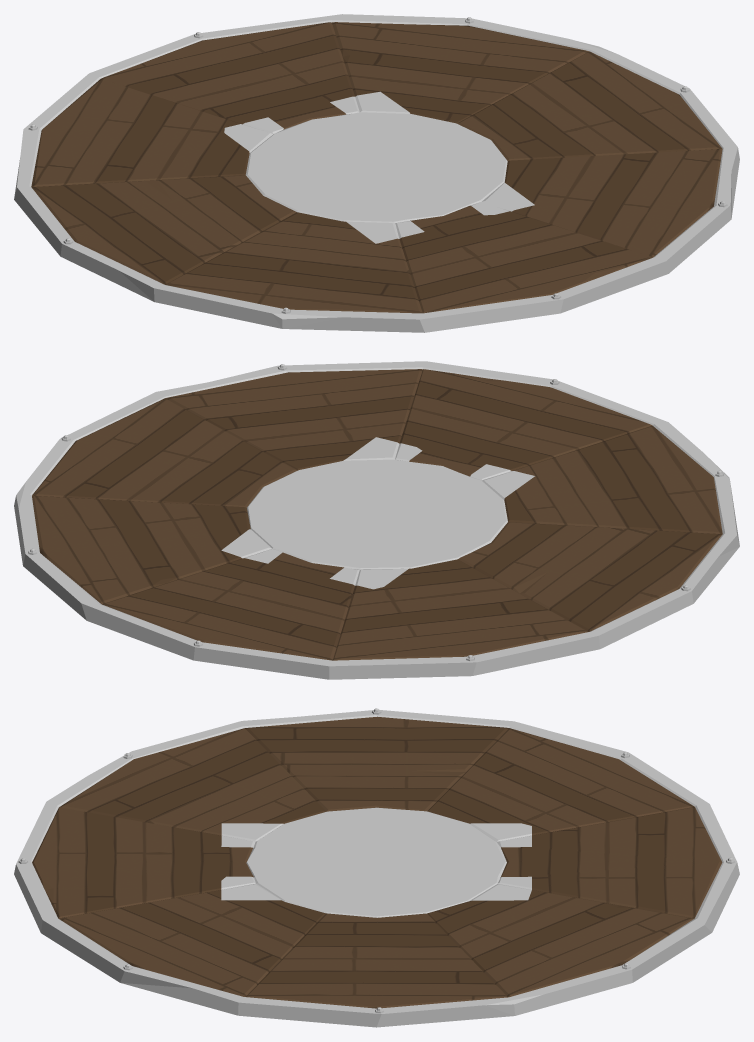
The model's file is SM_Prop_Helipad_01.fbx.
The picture shows the model from 3 angles, top to bottom: view 1: azimuth 30°, elevation 25°; view 2: azimuth 150°, elevation 25°; view 3: azimuth 270°, elevation 25°; orthographic projection.
Visible parts, largest first — view 1: SM_Prop_Helipad_01; view 2: SM_Prop_Helipad_01; view 3: SM_Prop_Helipad_01.
Part boxes in pixels (x1=…): SM_Prop_Helipad_01: x1=14, y1=14, x2=739, y2=332; SM_Prop_Helipad_01: x1=14, y1=361, x2=739, y2=679; SM_Prop_Helipad_01: x1=14, y1=708, x2=739, y2=1027.
Bounding box in the file's own units: 799 × 19.73 × 801.
